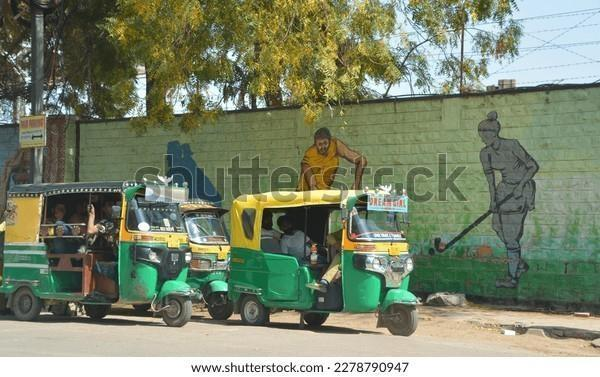keke: (227, 188, 421, 340), (3, 178, 196, 330)
